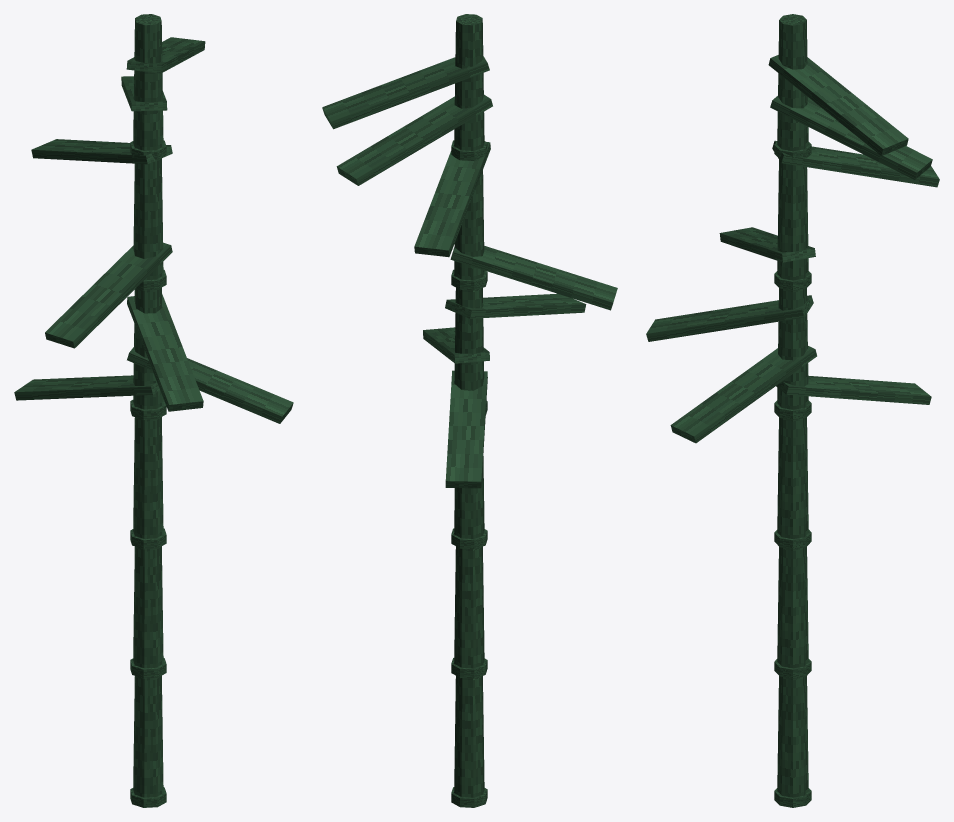
The model's file is bamboo_56.glb.
3 views of the same model, side by side, from view 1: azimuth 30°, elevation 25°; view 2: azimuth 150°, elevation 25°; view 3: azimuth 270°, elevation 25° (orthographic).
Visible parts, largest first — view 1: Leaf, Leaf.002, Stem, Stem.002, Stem.001, Stem.005, Leaf.005, Stem.004, Leaf.001, Leaf.006, Stem.003, Leaf.003 (+1 smaller); view 2: Leaf.004, Leaf.006, Leaf.003, Leaf.001, Leaf, Stem, Stem.001, Stem.005, Leaf.002, Stem.003, Stem.004, Stem.002 (+1 smaller); view 3: Leaf.003, Leaf.005, Stem, Stem.002, Stem.001, Leaf.002, Stem.004, Stem.005, Leaf.004, Leaf.001, Stem.003, Leaf.006 (+1 smaller).
Boxes of the visible parts, <box> form: Leaf: <box>45,242,172,348</box>; Leaf.002: <box>127,294,203,411</box>; Stem: <box>133,675,163,797</box>; Stem.002: <box>133,417,163,538</box>; Stem.001: <box>133,546,163,668</box>; Stem.005: <box>133,14,163,150</box>; Leaf.005: <box>127,347,293,423</box>; Stem.004: <box>133,158,163,280</box>; Leaf.001: <box>14,375,159,400</box>; Leaf.006: <box>31,139,172,164</box>; Stem.003: <box>133,287,163,409</box>; Leaf.003: <box>126,37,205,73</box>; Leaf.004: <box>336,94,492,185</box>; Leaf.006: <box>414,142,490,257</box>; Leaf.003: <box>322,56,489,129</box>; Leaf.001: <box>445,370,487,488</box>; Leaf: <box>450,246,617,310</box>; Stem: <box>454,676,484,797</box>; Stem.001: <box>454,546,484,668</box>; Stem.005: <box>454,14,484,150</box>; Leaf.002: <box>445,293,586,318</box>; Stem.003: <box>454,288,484,390</box>; Stem.004: <box>454,170,484,280</box>; Stem.002: <box>454,456,484,538</box>; Leaf.003: <box>768,55,908,155</box>; Leaf.005: <box>670,346,816,443</box>; Stem: <box>777,676,808,797</box>; Stem.002: <box>777,417,808,538</box>; Stem.001: <box>777,547,808,668</box>; Leaf.002: <box>646,295,813,341</box>; Stem.004: <box>777,160,808,280</box>; Stem.005: <box>777,14,808,151</box>; Leaf.004: <box>770,96,932,179</box>; Leaf.001: <box>776,375,931,404</box>; Stem.003: <box>777,288,808,409</box>; Leaf.006: <box>772,140,939,187</box>.
Bounding box in the file's own units: 1.32 × 4.35 × 1.48.
Materials: 1 (1 with a texture image).
